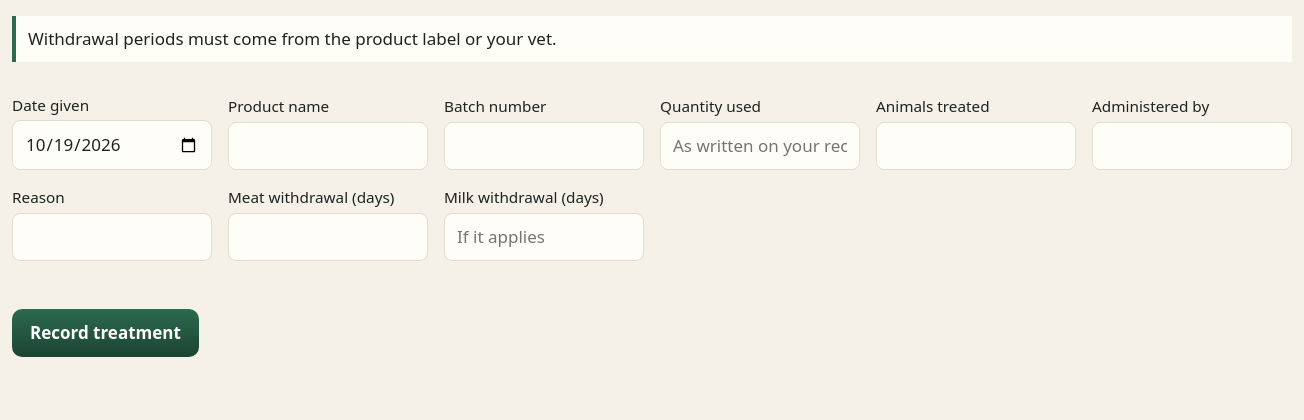
Test: TreatmentForm (FR-6.1, FR-6.3) › stops more animals than the group has
Type "2026-06-01" into the date field labelled "Date given" at [112, 145], box [12,120,212,170]
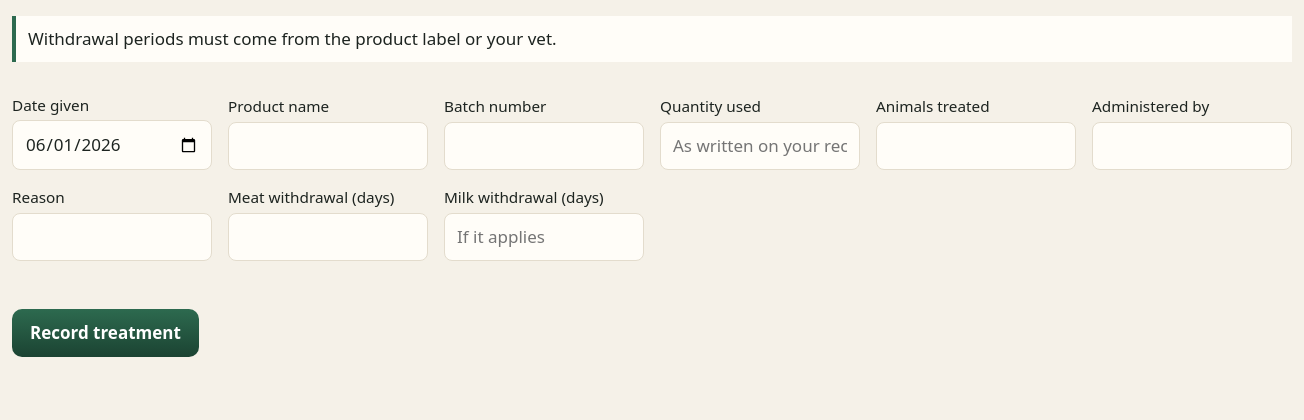
Type "Product from label" into the field labelled "Product name" at [328, 146], box [228,122,428,170]
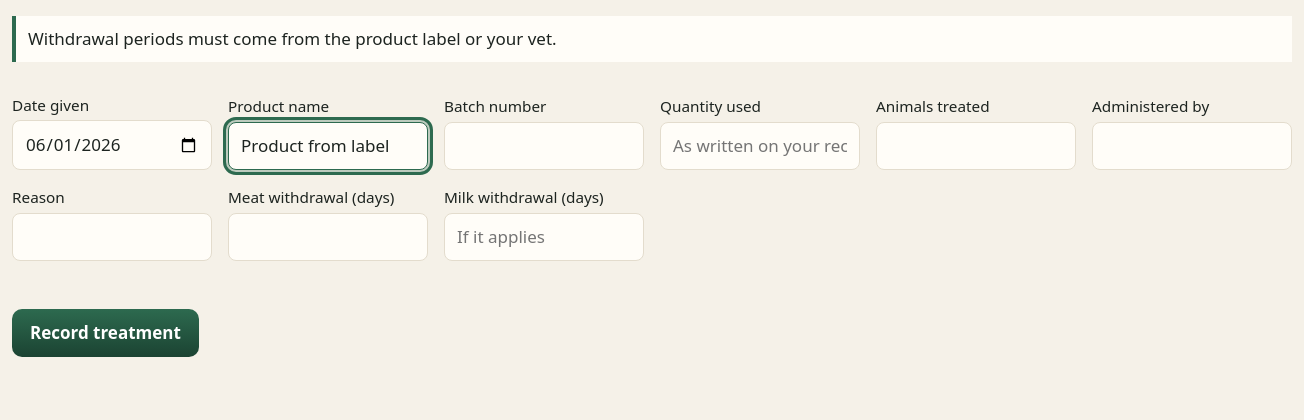
Type "12" into the number field labelled "Animals treated" at [976, 146], box [876,122,1076,170]
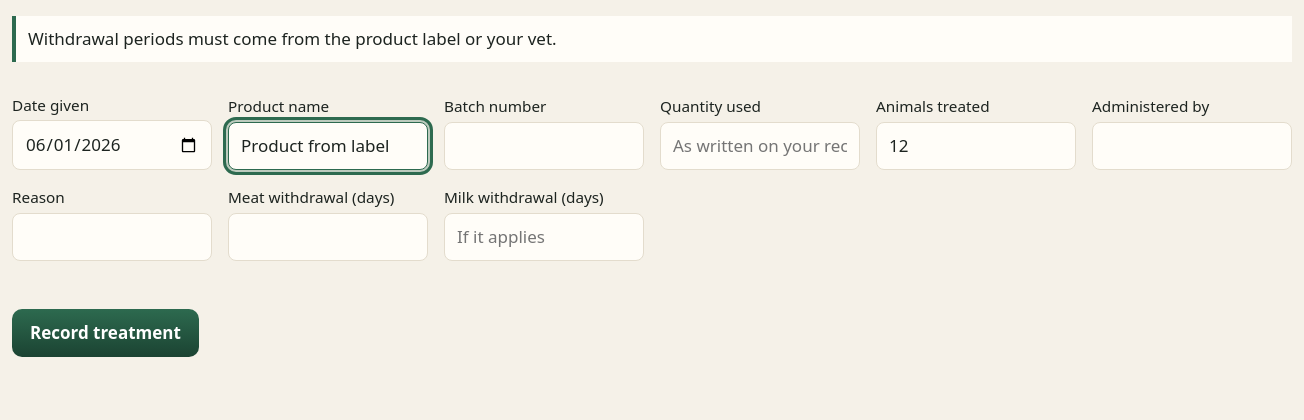
Type "Ann" into the field labelled "Administered by" at [1192, 146], box [1092,122,1292,170]
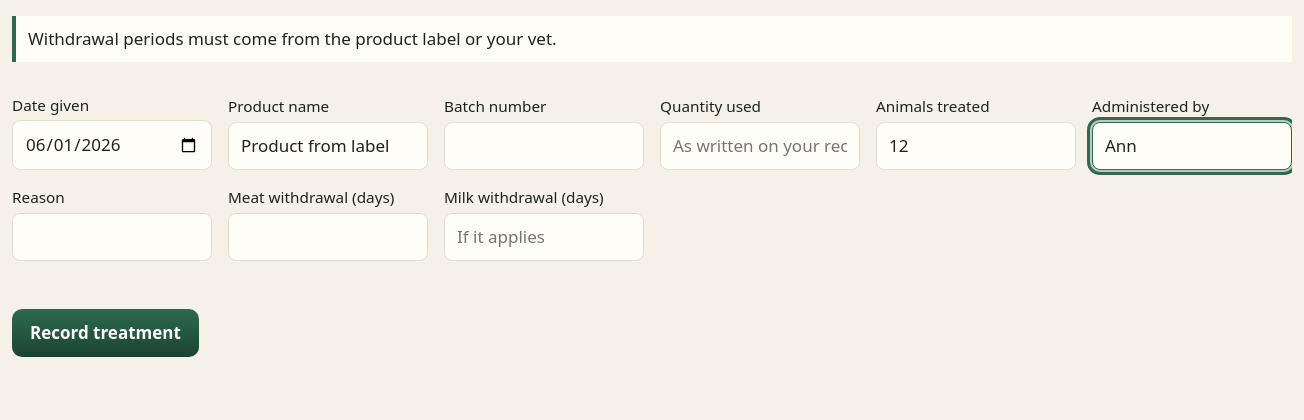
Type "28" into the number field labelled "Meat withdrawal (days)" at [328, 237], box [228,213,428,261]
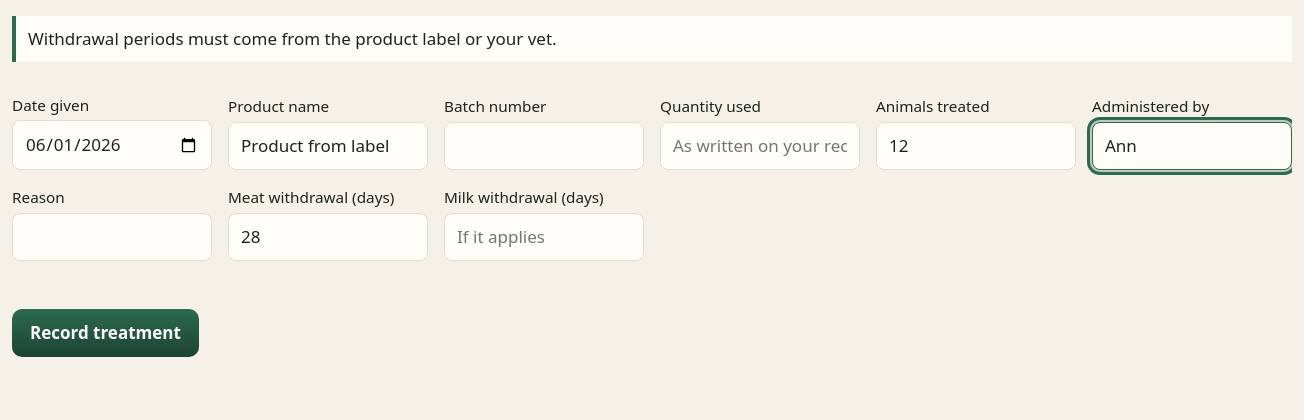
Click the button "Record treatment" at [105, 333], box [12,309,199,357]
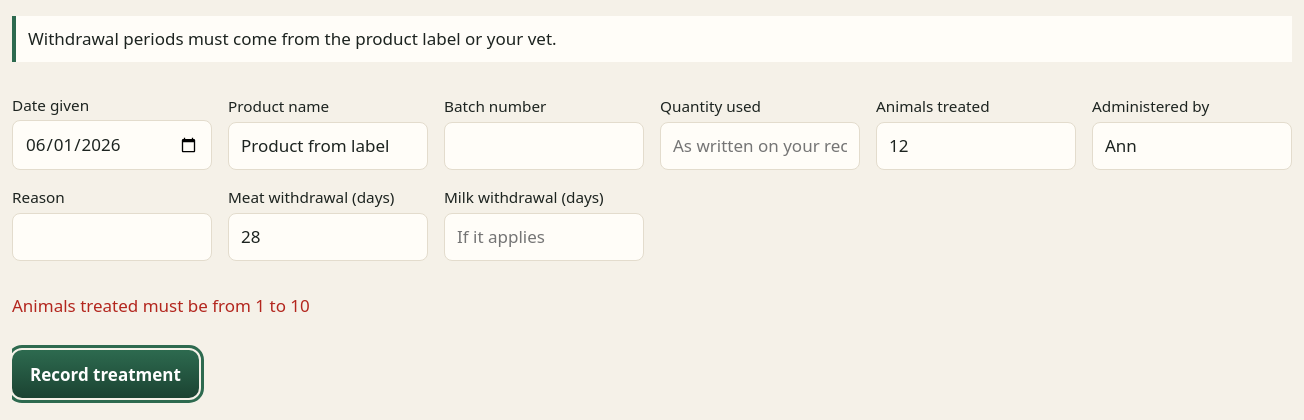
Expected: the message shows "1 to 10", [12,294,310,317]
